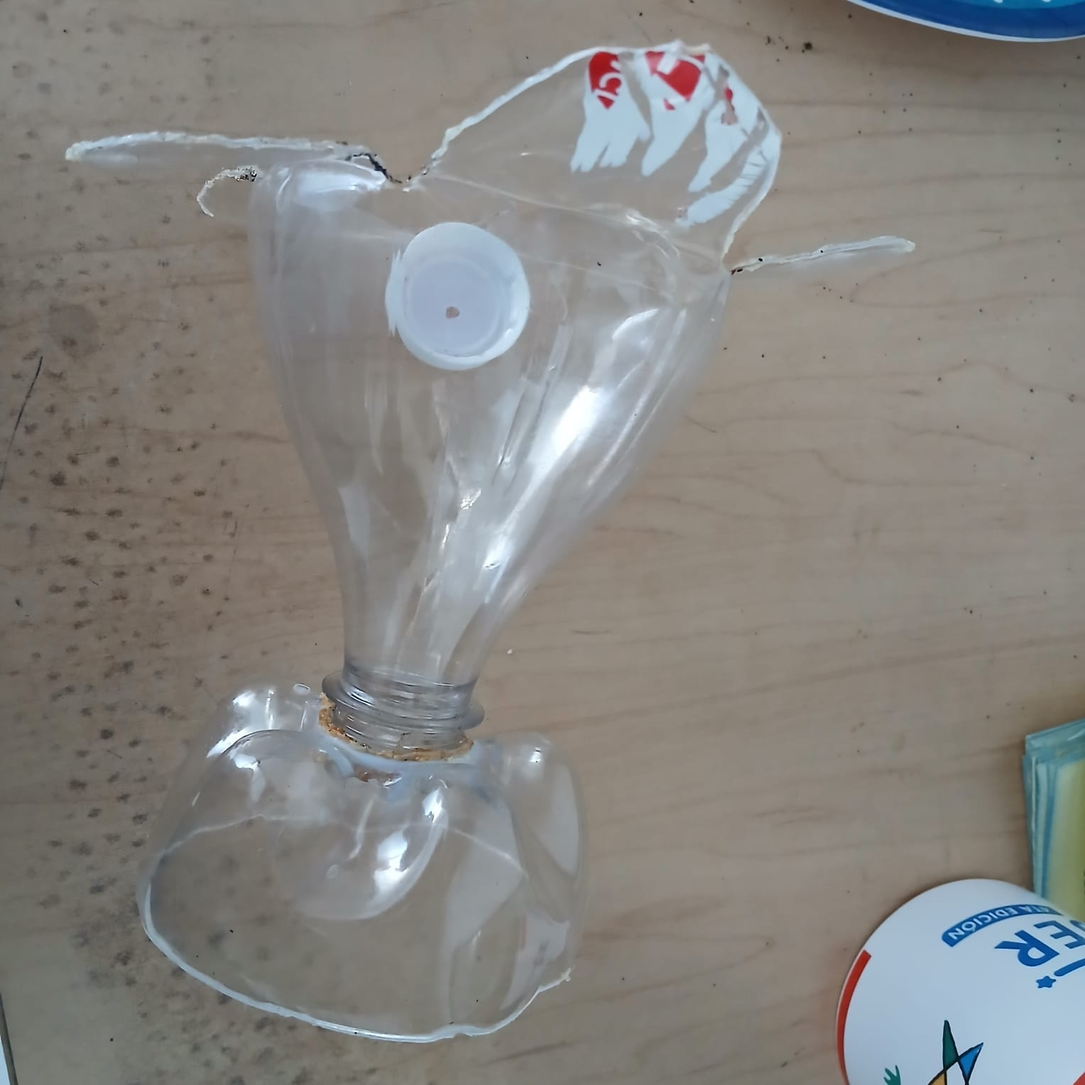Plastico: (67, 41, 914, 1043)
